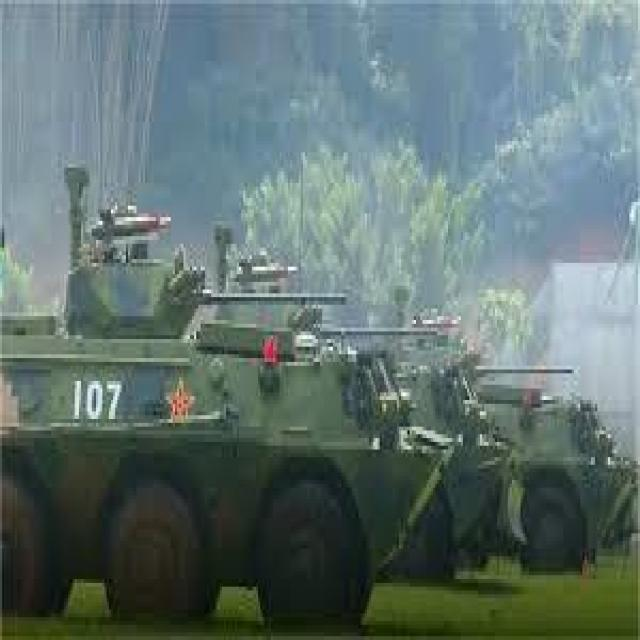Tanks: (6, 246, 437, 634), (400, 328, 505, 575), (507, 376, 632, 574)
